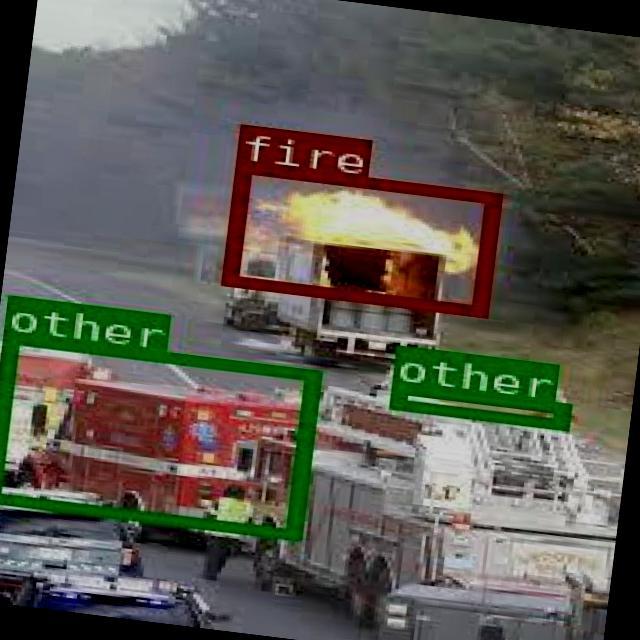fire: (219, 160, 496, 314)
